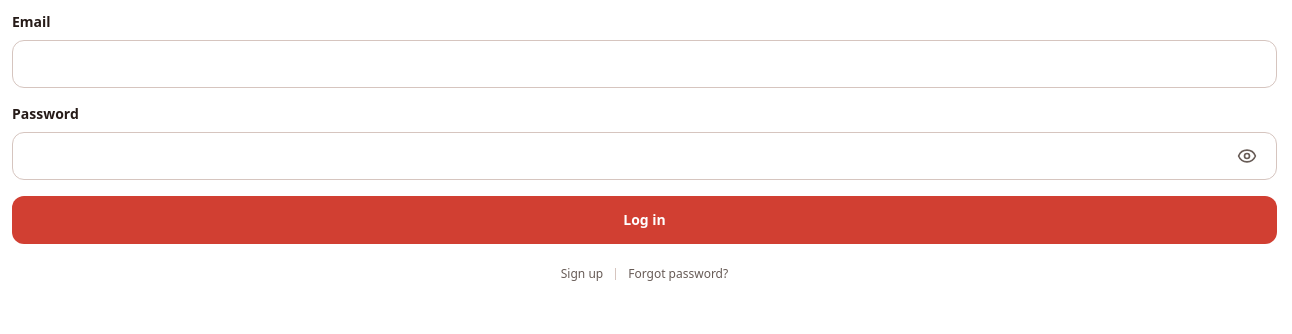
Test: clears failure counts when login succeeds
Type "alice@example.com" into the field labelled "Email" at (644, 64), box [12,40,1277,88]
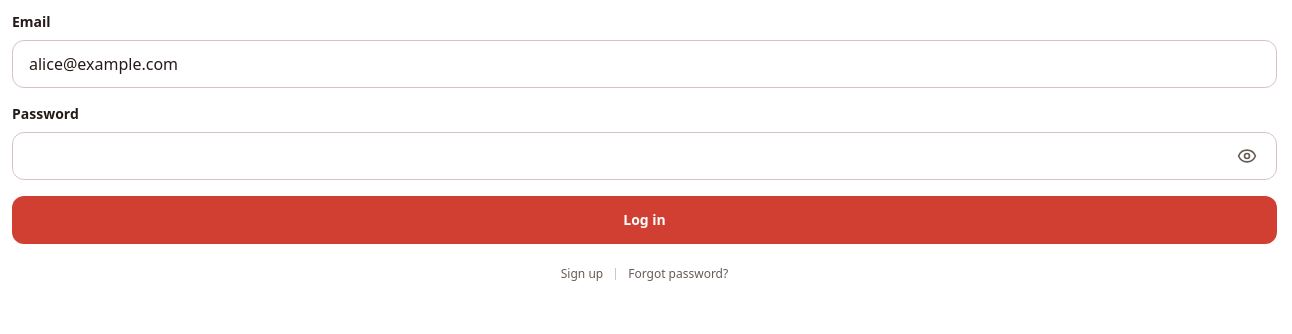
Type "wrong-password" into the password field labelled "Password" at (644, 156), box [12,132,1277,180]
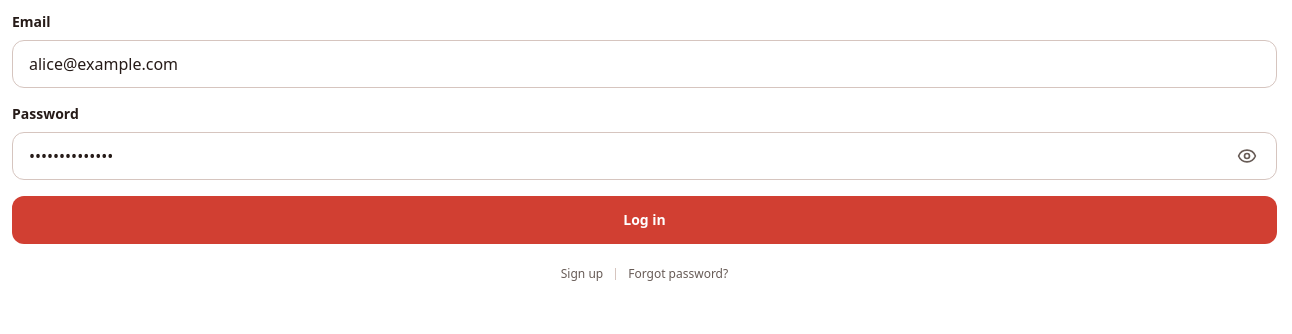
Submit the form labelled "Email"
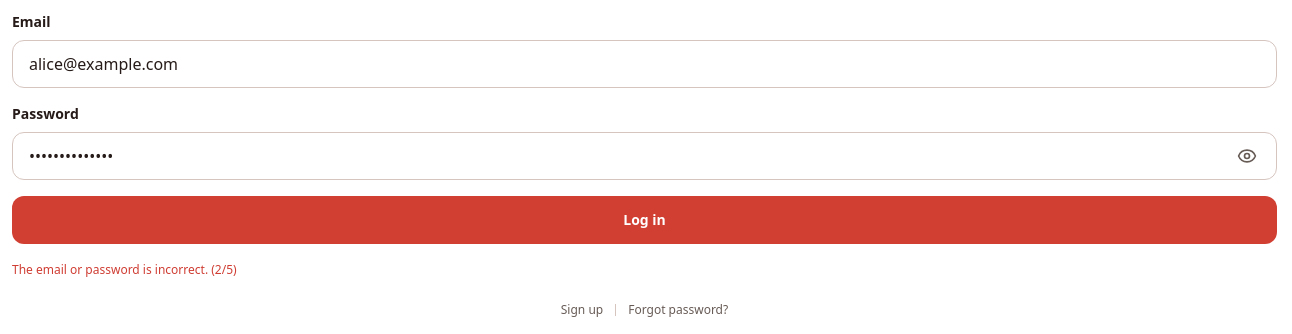
Submit the form labelled "Email"
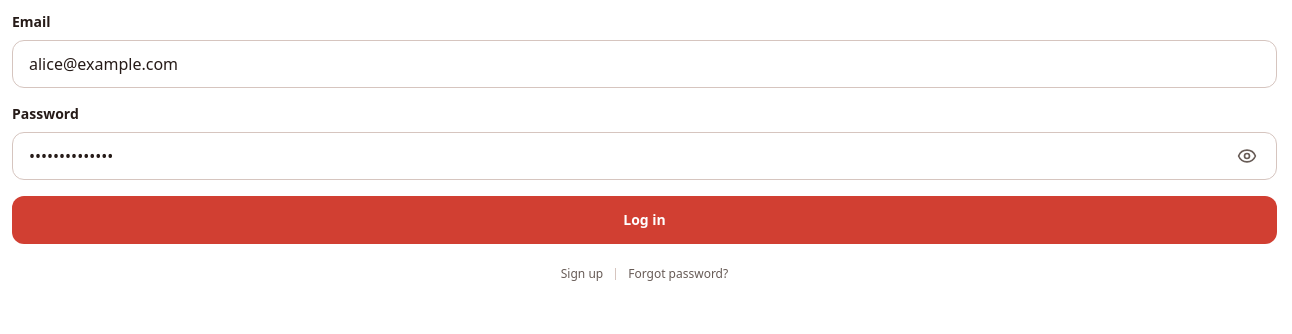
Check: the message "The email or password is incorrect. (2/5)" is gone
